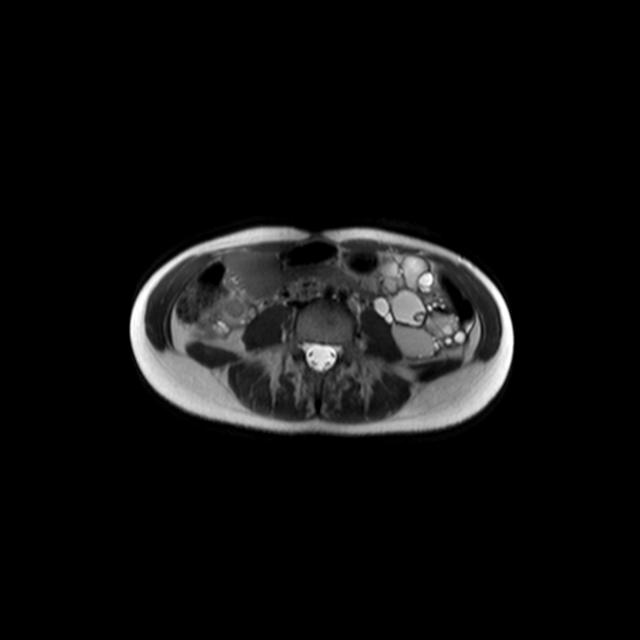sag: (193, 290, 259, 341)
sol: (359, 254, 471, 363)
